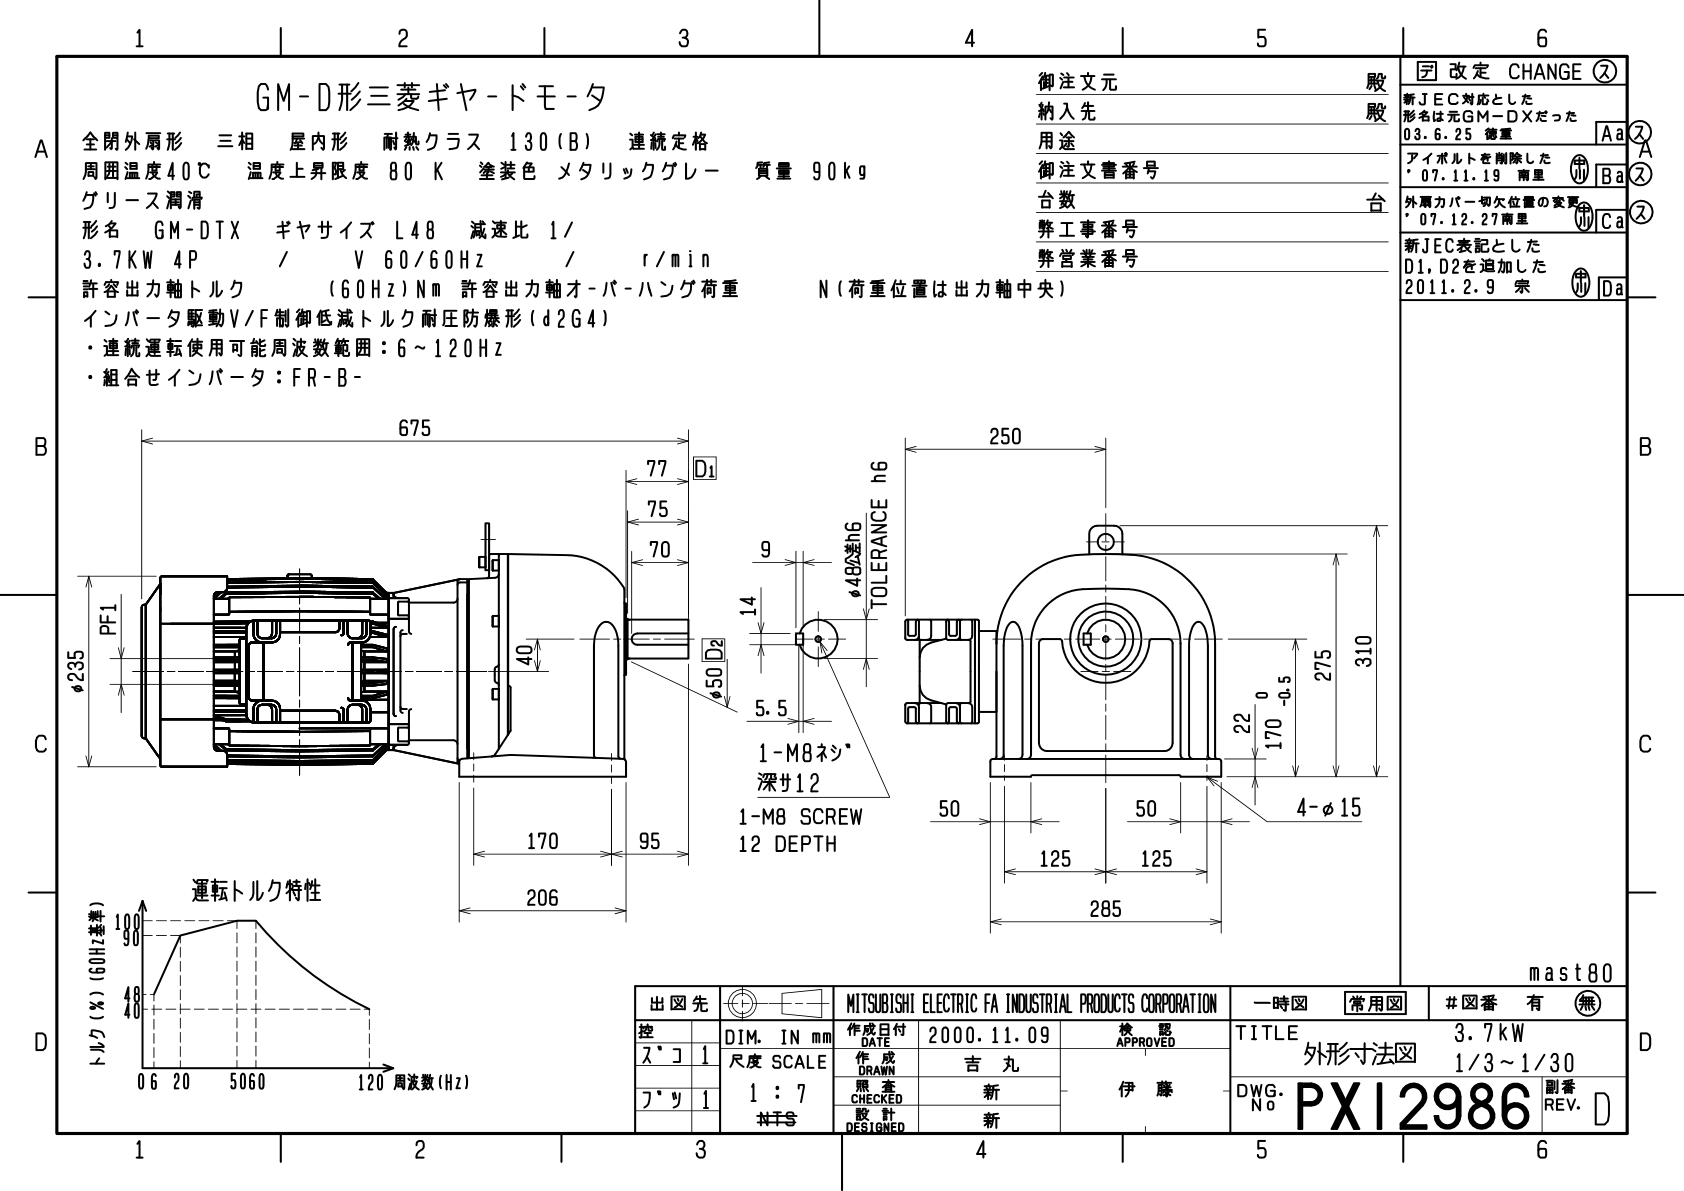GM_D_制御屋内_三相_脚: (13, 4, 1684, 1191)
